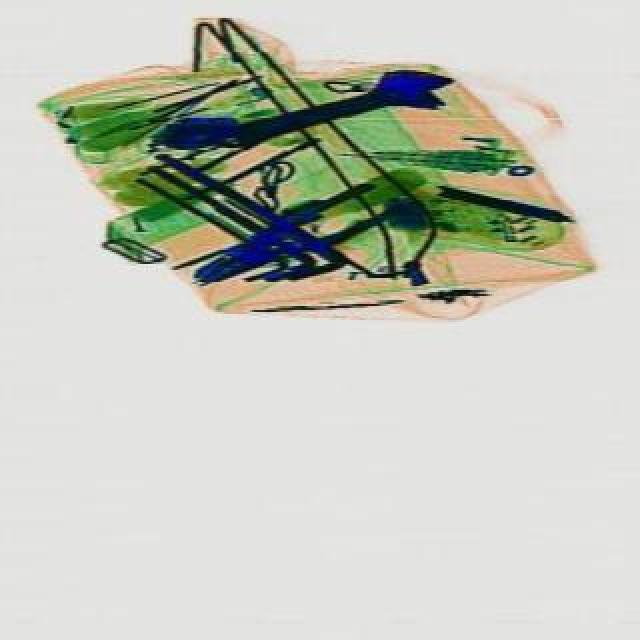scissors: (204, 52, 460, 172)
wrench: (186, 176, 392, 302)
